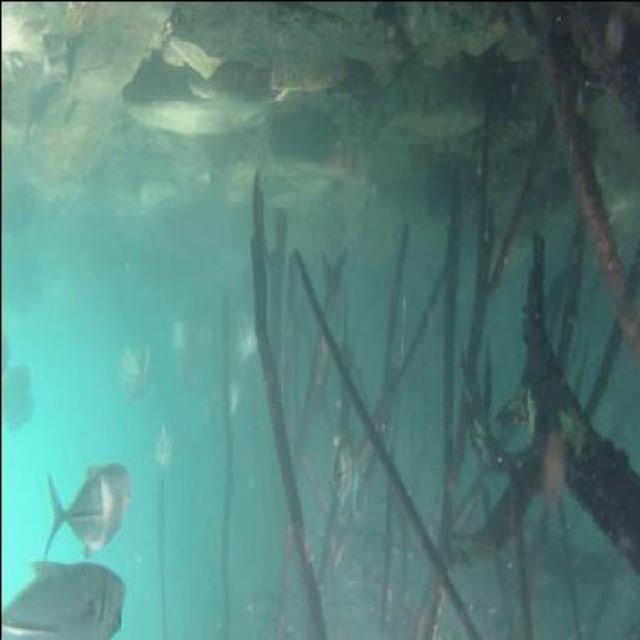Caranx_sexfasciatus_juvenile: (0, 553, 126, 638), (41, 450, 128, 564), (165, 316, 209, 395), (0, 358, 37, 434), (324, 425, 358, 506), (119, 332, 147, 416), (150, 410, 176, 479), (215, 366, 242, 429), (352, 449, 372, 533), (232, 323, 265, 371)
